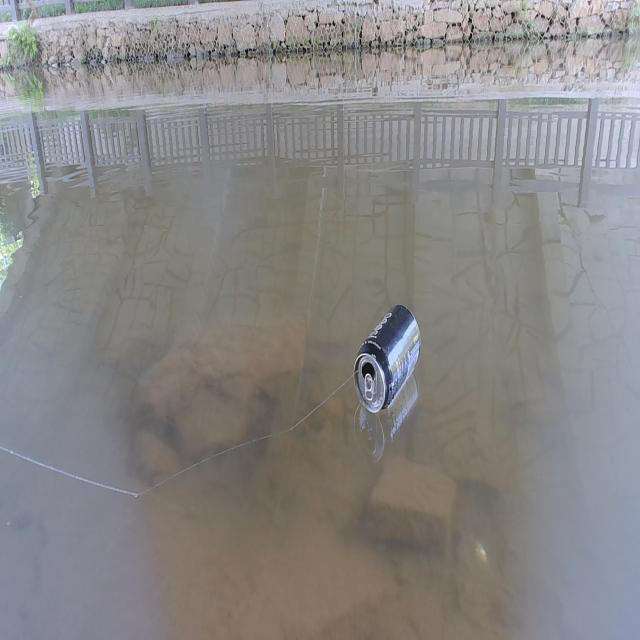Can: (352, 296, 421, 415)
